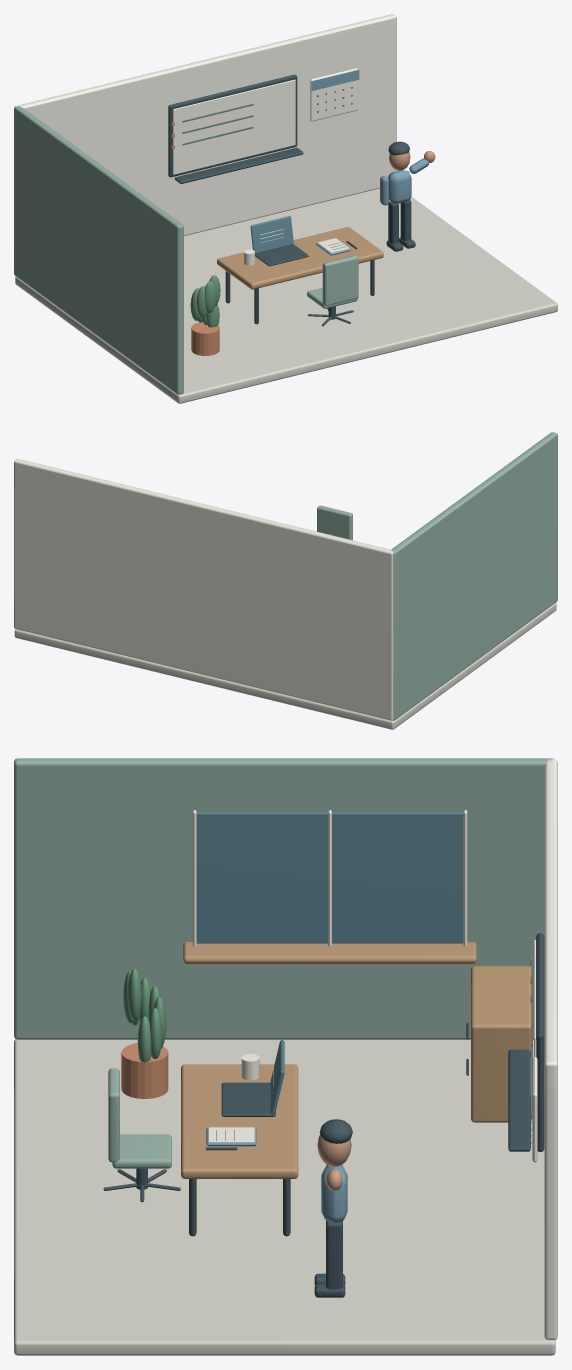
The model's file is office.glb.
3 renders of one model, top to bottom at view 1: azimuth 30°, elevation 25°; view 2: azimuth 150°, elevation 25°; view 3: azimuth 270°, elevation 25°, orthographic. The views are drawn at different scales.
Parts seen in each view (by area): view 1: Room floor, Back wall, Side wall, Whiteboard, Desk, Chair back, Calendar, Whiteboard frame, Laptop screen, Whiteboard tray, Plant pot, Coworker torso (+2 smaller); view 2: Back wall, Side wall, Room floor, Chair back; view 3: Room floor, Side wall, Window daylight, Desk, Back wall, Cabinet, Window sill, Whiteboard tray, Plant pot, Chair seat, Whiteboard frame, Laptop base (+5 smaller).
Part boxes in pixels (left/top/right/bottom): Room floor: left=15, top=188, right=557, bottom=403; Back wall: left=15, top=14, right=396, bottom=235; Side wall: left=14, top=106, right=183, bottom=394; Whiteboard: left=173, top=79, right=295, bottom=174; Desk: left=217, top=227, right=383, bottom=289; Chair back: left=322, top=255, right=358, bottom=305; Calendar: left=310, top=68, right=357, bottom=121; Whiteboard frame: left=168, top=74, right=297, bottom=177; Laptop screen: left=250, top=216, right=293, bottom=253; Whiteboard tray: left=174, top=147, right=303, bottom=183; Plant pot: left=191, top=322, right=219, bottom=355; Coworker torso: left=388, top=170, right=411, bottom=203; Back wall: left=14, top=459, right=393, bottom=720; Side wall: left=391, top=432, right=557, bottom=720; Room floor: left=14, top=603, right=556, bottom=729; Chair back: left=317, top=505, right=352, bottom=540; Room floor: left=14, top=1039, right=555, bottom=1355; Side wall: left=14, top=758, right=553, bottom=1039; Window daylight: left=196, top=813, right=463, bottom=943; Desk: left=181, top=1064, right=298, bottom=1178; Back wall: left=544, top=759, right=557, bottom=1339; Cabinet: left=471, top=966, right=532, bottom=1122; Window sill: left=183, top=942, right=476, bottom=963; Whiteboard tray: left=508, top=1049, right=530, bottom=1151; Plant pot: left=121, top=1043, right=168, bottom=1098; Chair seat: left=112, top=1134, right=171, bottom=1168; Whiteboard frame: left=536, top=933, right=544, bottom=1151; Laptop base: left=221, top=1082, right=275, bottom=1116.
Size of the model in its own units: 8.03 by 3.59 by 6.03.
